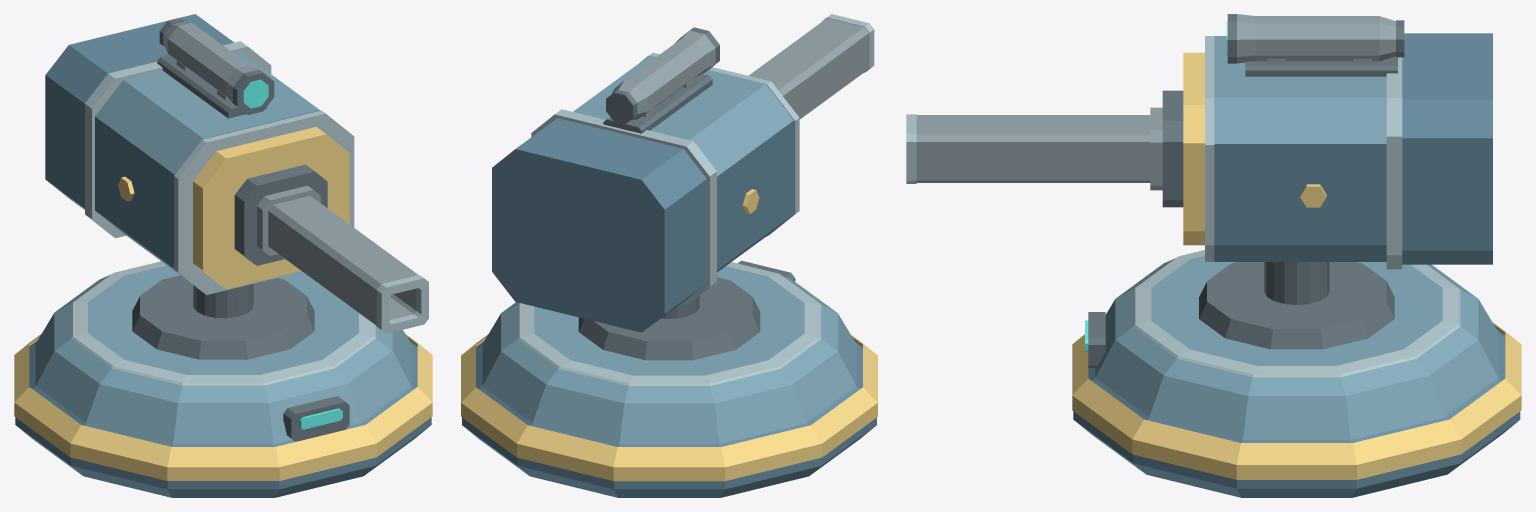
3 views of the same model, side by side, from view 1: azimuth 30°, elevation 25°; view 2: azimuth 150°, elevation 25°; view 3: azimuth 270°, elevation 25° (orthographic). The views are drawn at different scales.
Parts seen in each view (by area): view 1: PrecisionTurret_Base, Barrel; view 2: PrecisionTurret_Base, Barrel; view 3: Barrel, PrecisionTurret_Base.
Boxes of the visible parts, x1,y1,x2,y2 form: PrecisionTurret_Base: (14,261,432,497); Barrel: (45,14,428,333); PrecisionTurret_Base: (461,260,877,497); Barrel: (492,14,874,332); Barrel: (906,14,1492,269); PrecisionTurret_Base: (1072,250,1521,497).
Bounding box in the file's own units: 2.18 × 2.1 × 2.98.
